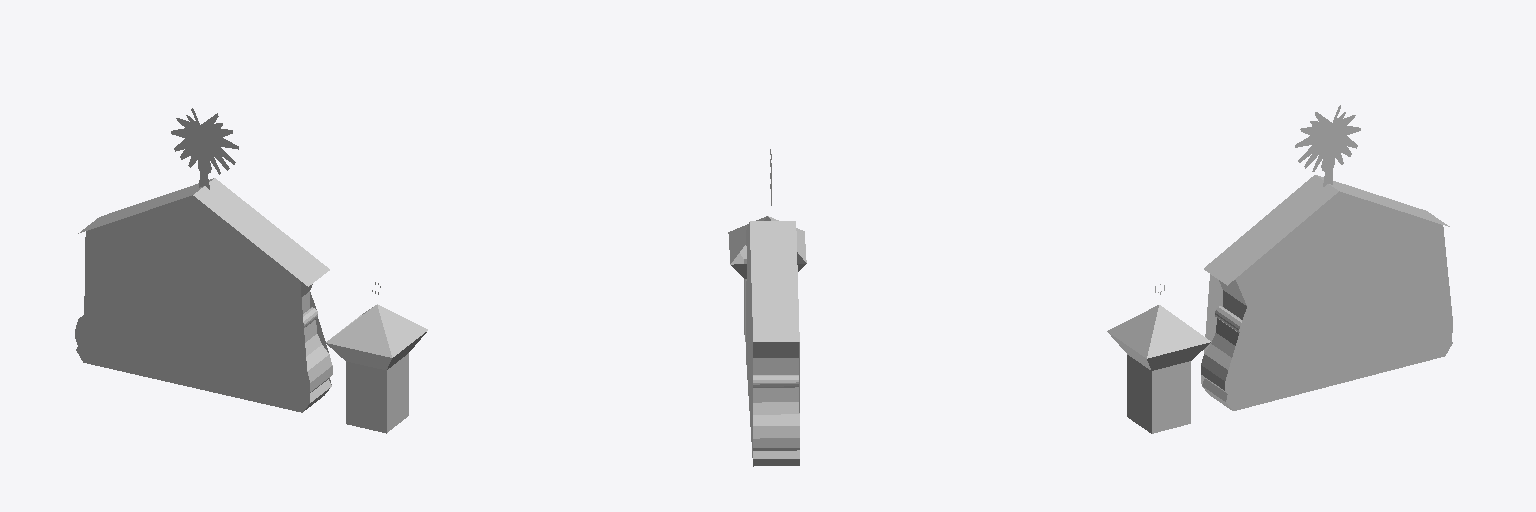
The model's file is detalji.obj.
3 views of the same model, side by side, from view 1: azimuth 30°, elevation 25°; view 2: azimuth 150°, elevation 25°; view 3: azimuth 270°, elevation 25° (orthographic).
Visible parts, largest first — view 1: nedim-nazočan; view 2: nedim-nazočan; view 3: nedim-nazočan.
Part boxes in pixels (left/top/right/bottom): nedim-nazočan: left=75, top=108, right=427, bottom=433; nedim-nazočan: left=728, top=149, right=806, bottom=466; nedim-nazočan: left=1107, top=105, right=1452, bottom=433.
Bounding box in the file's own units: 4.22 × 5.11 × 5.95.